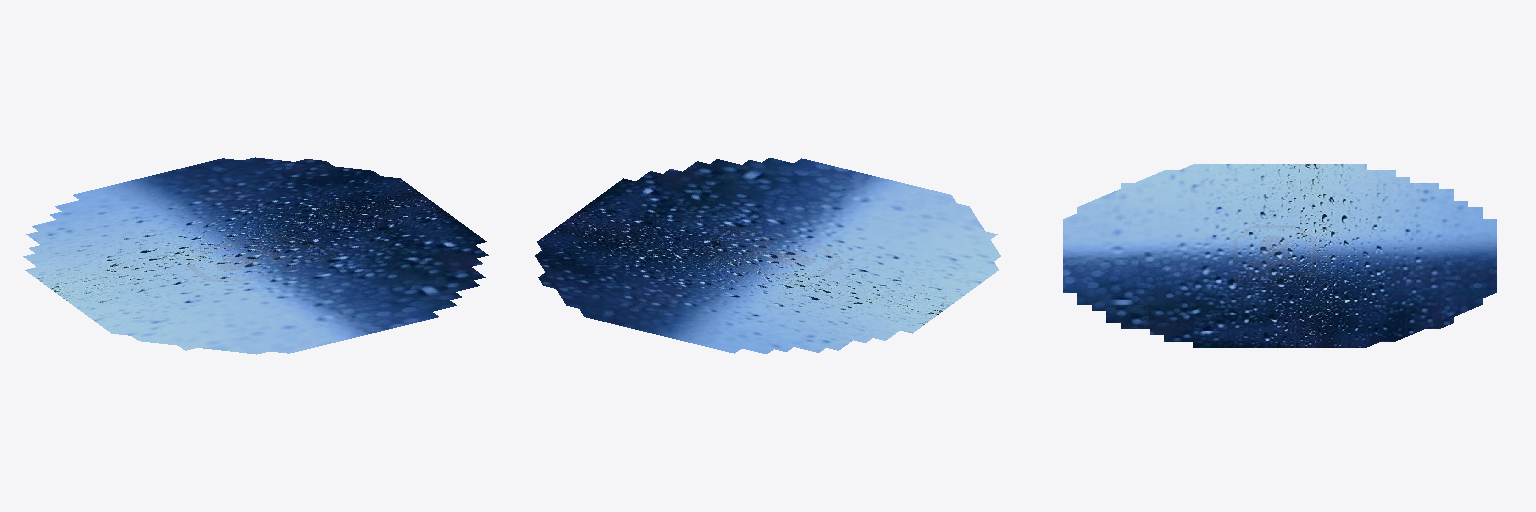
The picture shows the model from 3 angles: view 1: azimuth 30°, elevation 25°; view 2: azimuth 150°, elevation 25°; view 3: azimuth 270°, elevation 25°; orthographic projection.
Parts seen in each view (by area): view 1: Plane01; view 2: Plane01; view 3: Plane01.
Boxes of the visible parts, x1,y1,x2,y2 form: Plane01: [23, 157, 488, 354]; Plane01: [535, 158, 1000, 353]; Plane01: [1063, 164, 1496, 347].
Bounding box in the file's own units: 112 × 0 × 112.
Materials: 1 (1 with a texture image).